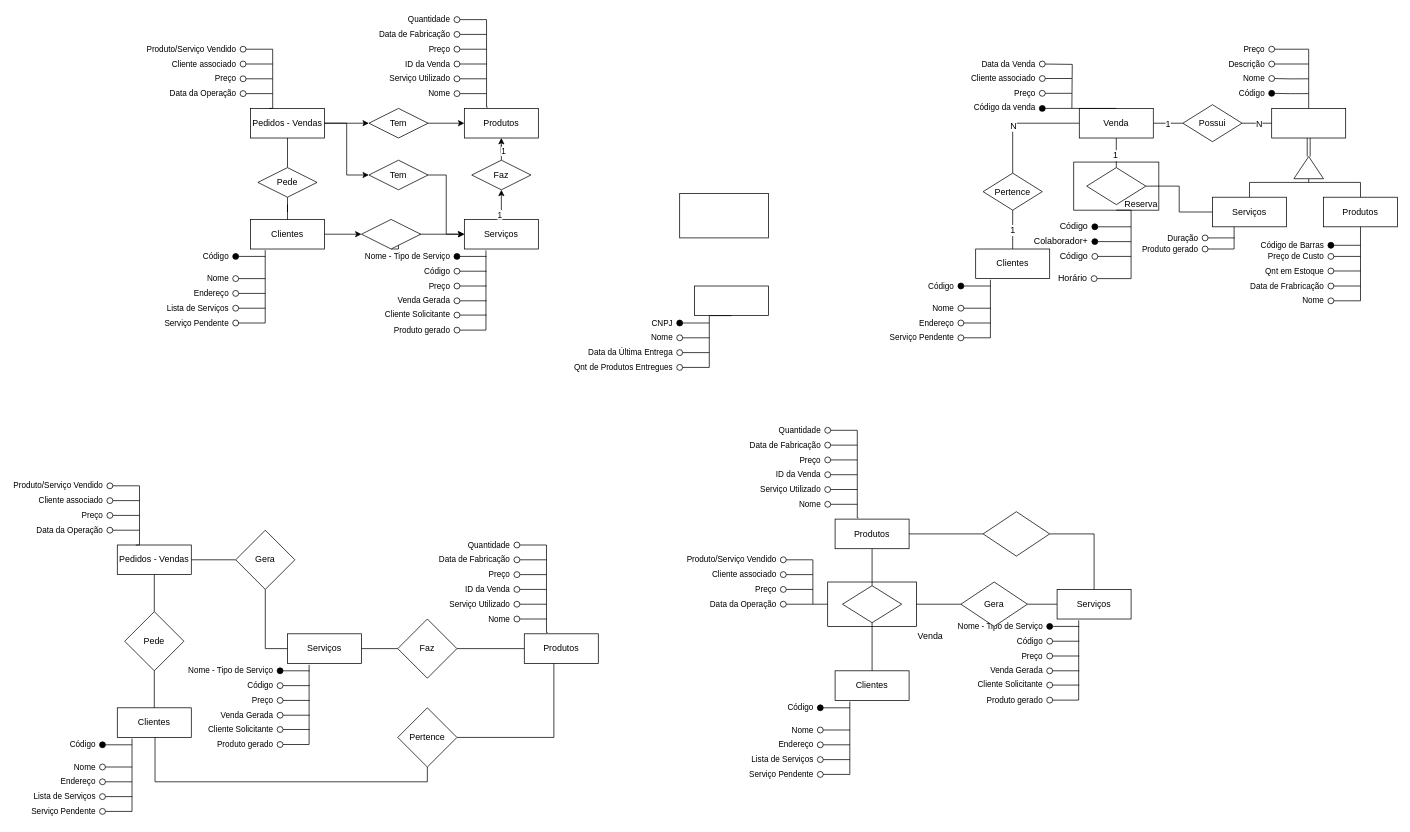
This 1410x832 diagram has some shape labels left out. Here are the shapes that lost their labels. From the top down, the box of each, then its label:
(1271, 108, 1346, 138): Item
(1086, 167, 1146, 205): Reservar
(361, 219, 421, 249): Deseja
(694, 285, 768, 316): Fornecedores
(982, 511, 1050, 556): Trabalhar
(842, 585, 902, 623): Quer
